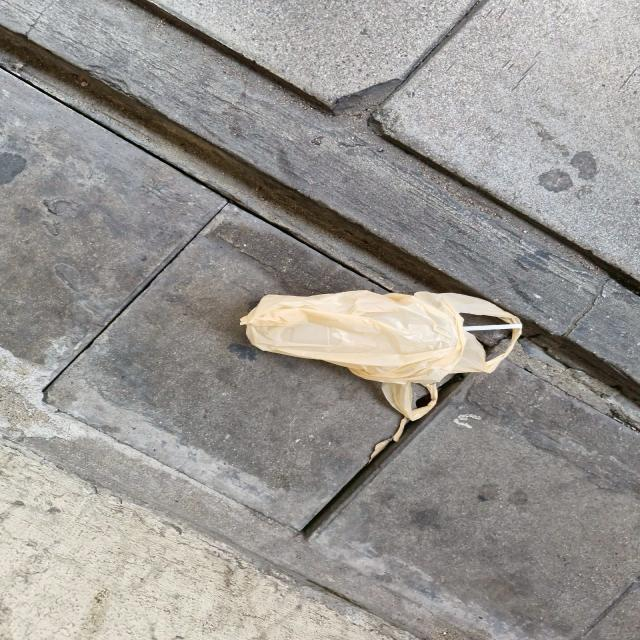plastic bag: (234, 278, 534, 407)
